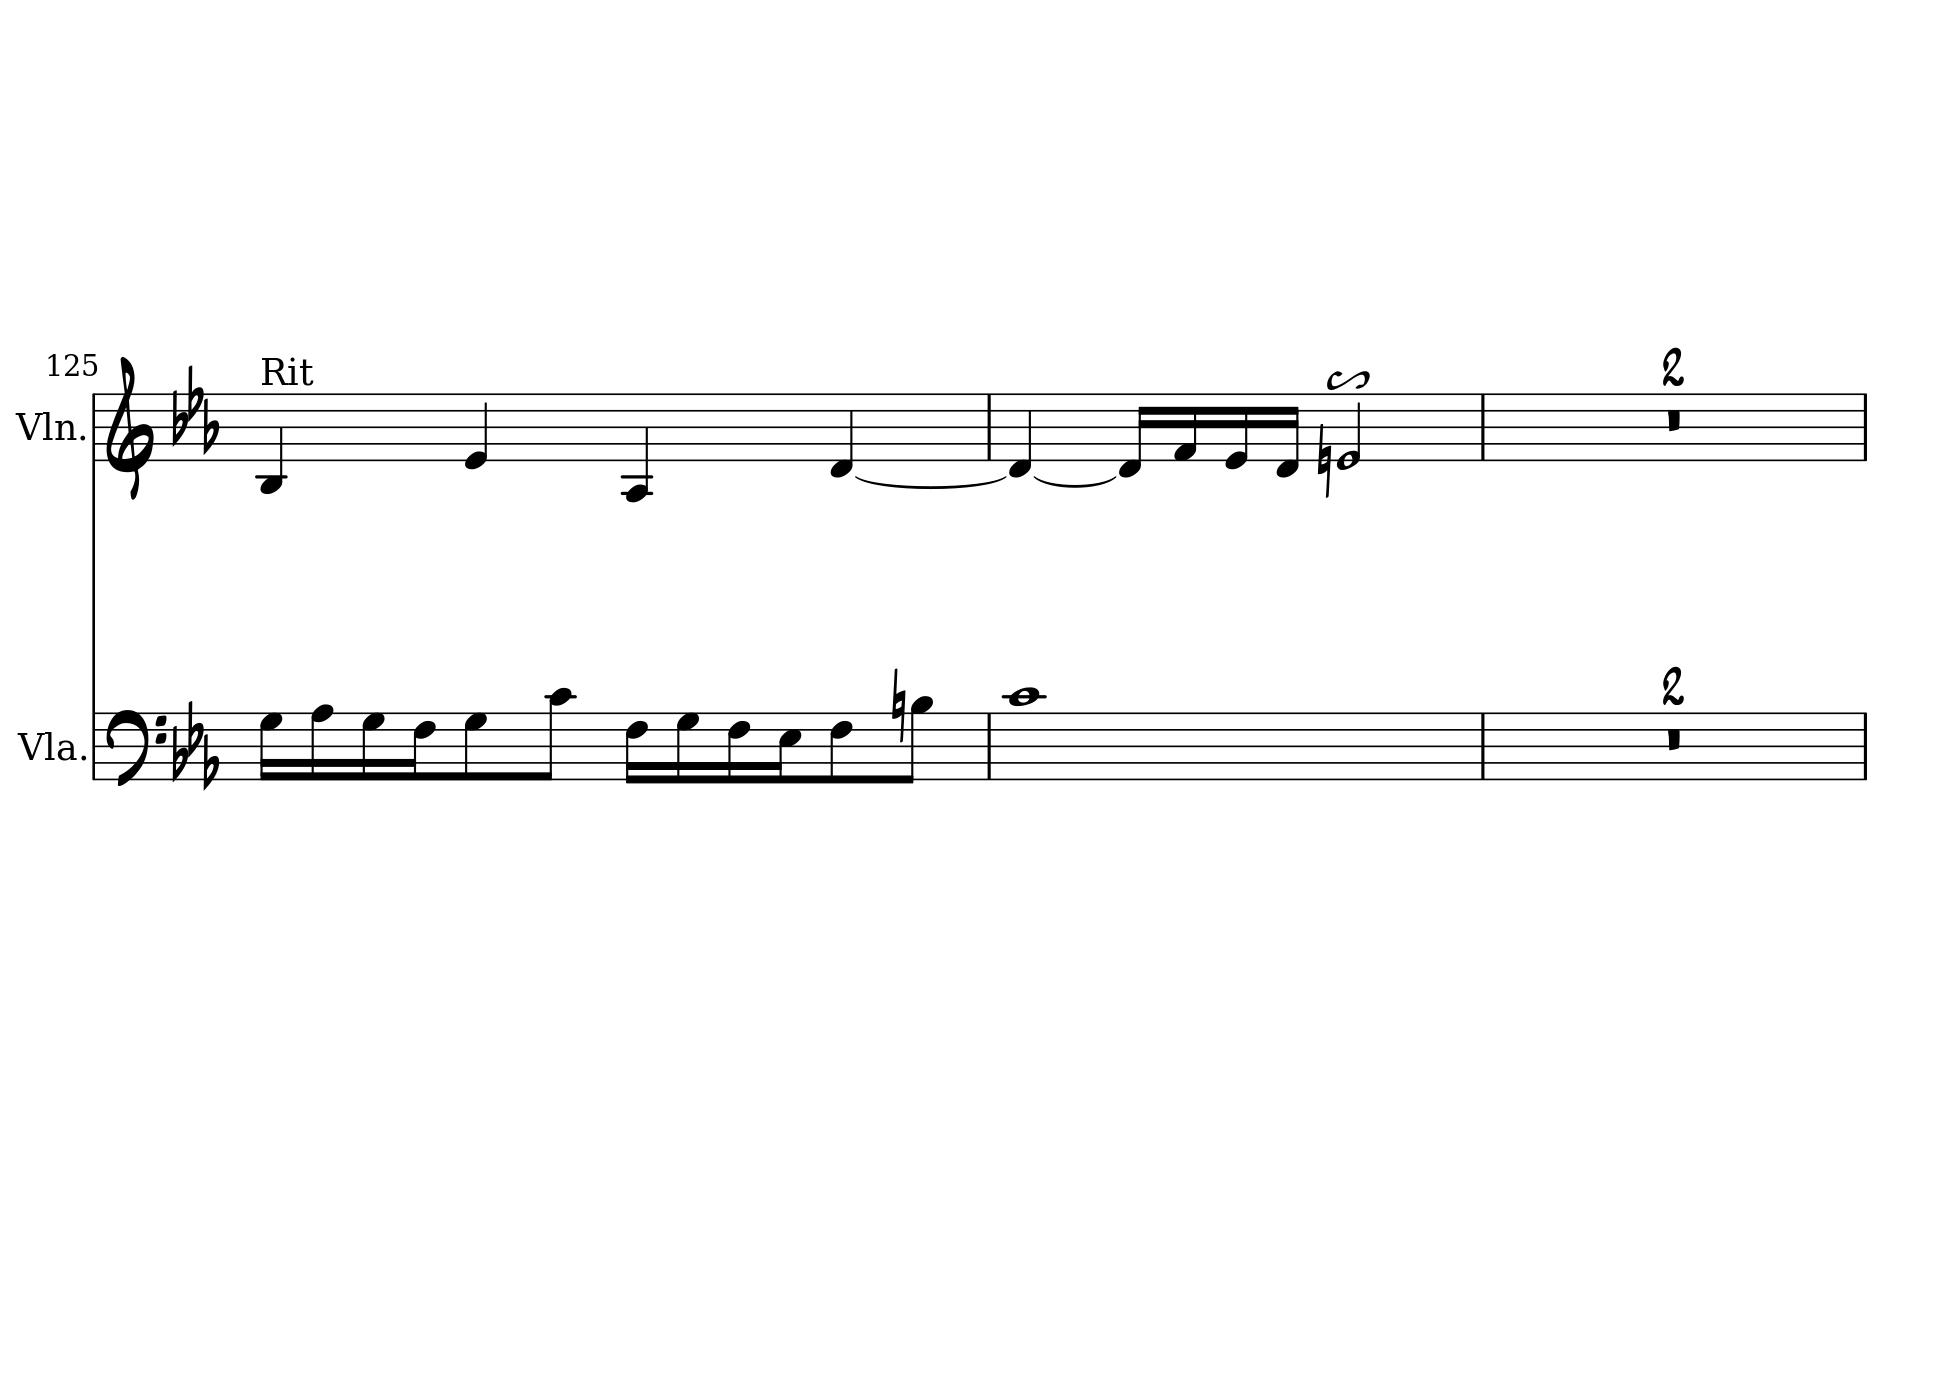1: (46, 349, 61, 379)
16_-1: (1117, 391, 1152, 478), (1275, 391, 1302, 478)
16_0: (1222, 391, 1251, 472)
16_1: (1171, 391, 1200, 463)
16_5: (769, 709, 802, 784)
16_6: (405, 709, 436, 781), (624, 709, 649, 786), (726, 709, 751, 784)
16_7: (673, 709, 700, 786), (256, 709, 283, 783), (358, 709, 385, 781)
16_8: (307, 702, 333, 781)
1_10: (1005, 684, 1041, 781)
2: (1659, 663, 1687, 706), (1660, 343, 1686, 387), (61, 351, 79, 379)
2_0: (1335, 390, 1363, 469)
4_-1: (826, 390, 855, 480), (1006, 391, 1035, 480)
4_-3: (256, 390, 286, 495)
4_-4: (621, 390, 654, 502)
4_0: (463, 390, 489, 472)
5: (79, 349, 97, 379)
8_10: (535, 685, 573, 783)
8_6: (828, 709, 853, 784)
8_7: (462, 709, 487, 781)
8_9: (900, 693, 933, 784)
A_F: (169, 697, 219, 789)
E_F: (171, 361, 220, 454)
Fclef: (103, 706, 166, 789)
Gclef: (103, 352, 154, 499)
Inverted_turn: (1324, 367, 1372, 390)
Natural: (1315, 421, 1333, 498), (889, 667, 907, 744)
Single_barline: (1855, 393, 1875, 460), (1855, 712, 1875, 778), (981, 712, 999, 778), (1474, 393, 1491, 460), (1474, 712, 1491, 778), (981, 394, 996, 460), (85, 712, 100, 778), (87, 391, 100, 460)
Slur: (850, 474, 1008, 490), (1033, 472, 1119, 487)
Vla: (18, 724, 76, 766)
Vln: (16, 406, 78, 447)
